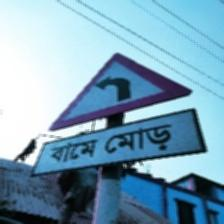Left-Turn: (35, 53, 202, 177)
